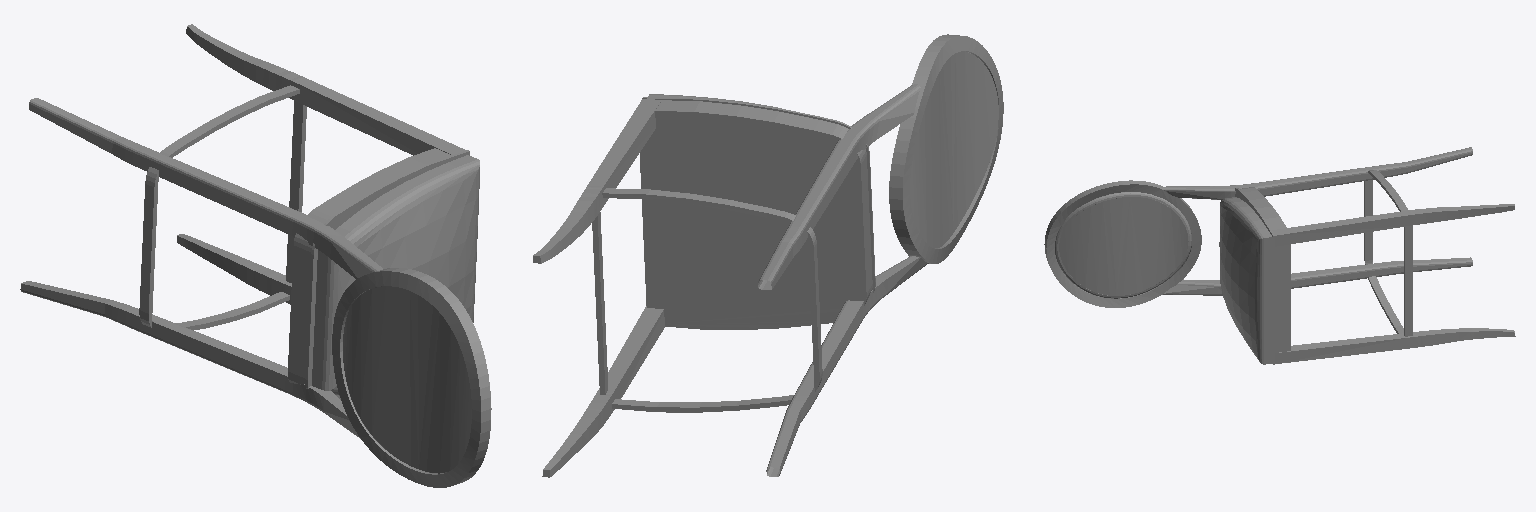
URDF robot description (cube.urdf):
<?xml version="0.0" ?> 
<robot name="cube.urdf"> 
<link name="legobrick"> 
<contact> 
<lateral_friction value="1.0"/>
<rolling_friction value="0.0"/>
<contact_cfm value="0.0"/>
<contact_erp value="1.0"/>
</contact> 
<inertial> 
<origin rpy="0 0 0" xyz="0.0 0.0 0.0"/> 
<mass value="0.1"/> 
<inertia ixx="1" ixy="0" ixz="0" iyy="1" iyz="0" izz="1"/> 
</inertial> 
<visual> 
<origin rpy="1.570796 0 0" xyz="0.003345204712362321 0.0058600514075888115 -0.0006201114851081136"/> 
<geometry> 
<mesh filename="7a5215c4f74afd1af7c7ad2549a1b15.obj" scale="1 1 1"/> 
</geometry> 
<material name="yellow"> 
<color rgba="0.6 0.6 0.6 1"/> 
</material> 
</visual> 
<collision> 
<origin rpy="1.570796 0 0" xyz="0.003345204712362321 0.0058600514075888115 -0.0006201114851081136"/> 
<geometry> 
<mesh filename="7a5215c4f74afd1af7c7ad2549a1b15_col.obj" scale="1 1 1"/> 
</geometry> 
</collision> 
</link> 
</robot>

--- What the picture shows (computed from the rendered views, not written in the file) ---
3 views of the same robot in one strip: view 1: azimuth 30°, elevation 25°; view 2: azimuth 150°, elevation 25°; view 3: azimuth 270°, elevation 25° (orthographic).
Model cube.urdf with 1 links and 0 joints (none), rooted at legobrick, posed all joints at 0.
Visible links, largest first — view 1: legobrick; view 2: legobrick; view 3: legobrick.
Link boxes in pixels (<box>): legobrick: <box>20,24,491,487</box>; legobrick: <box>533,34,1003,477</box>; legobrick: <box>1044,147,1515,364</box>.
Bounding box of the posed robot: 0.045 × 0.0998 × 0.032 m (x, y, z).
1 mesh visuals loaded from 1 distinct referenced files (1 OBJ).